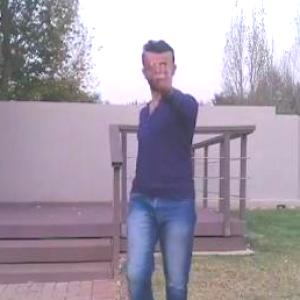takeoff-hand: (142, 43, 180, 93)
